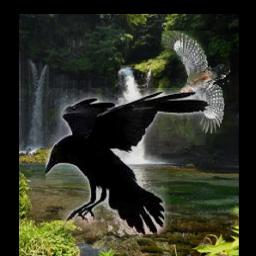Crow: (45, 88, 209, 234)
Woodpecker: (162, 31, 230, 133)
